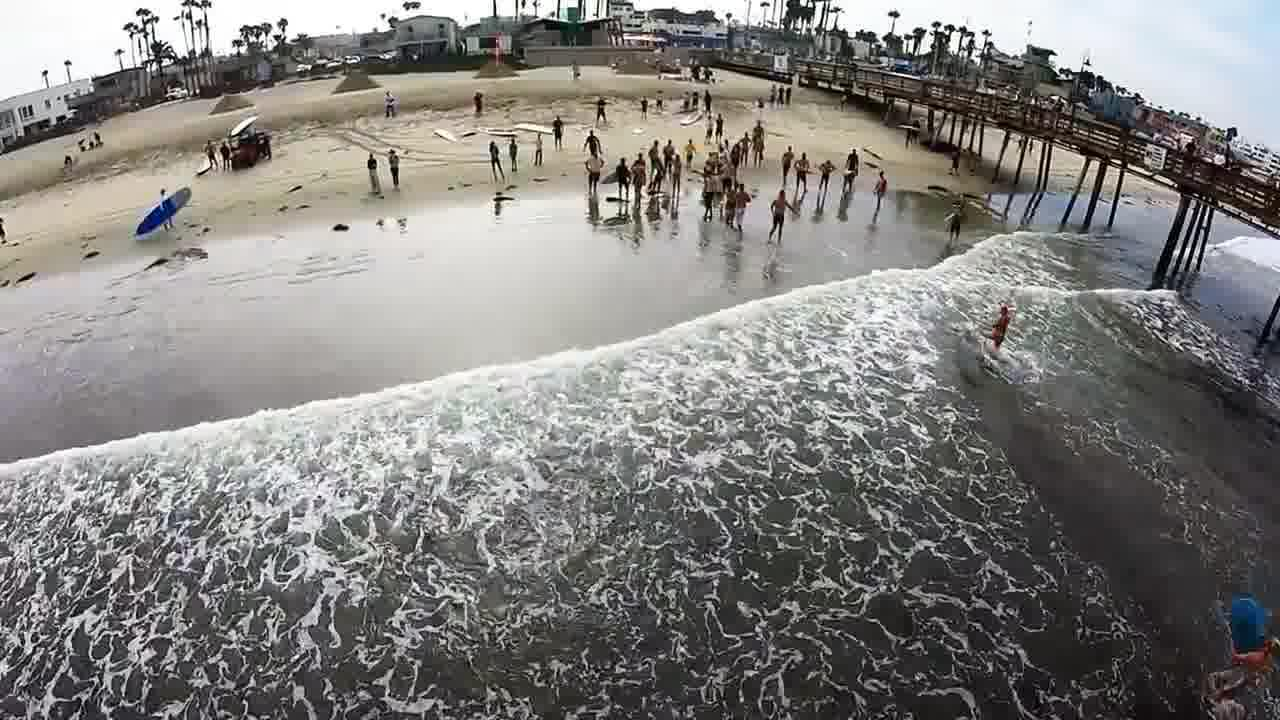human: (973, 290, 1026, 360)
